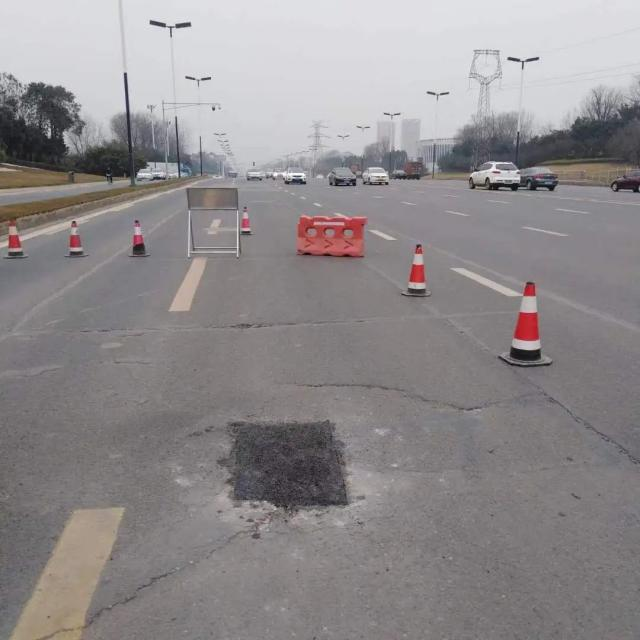Pothole: (222, 418, 356, 508)
